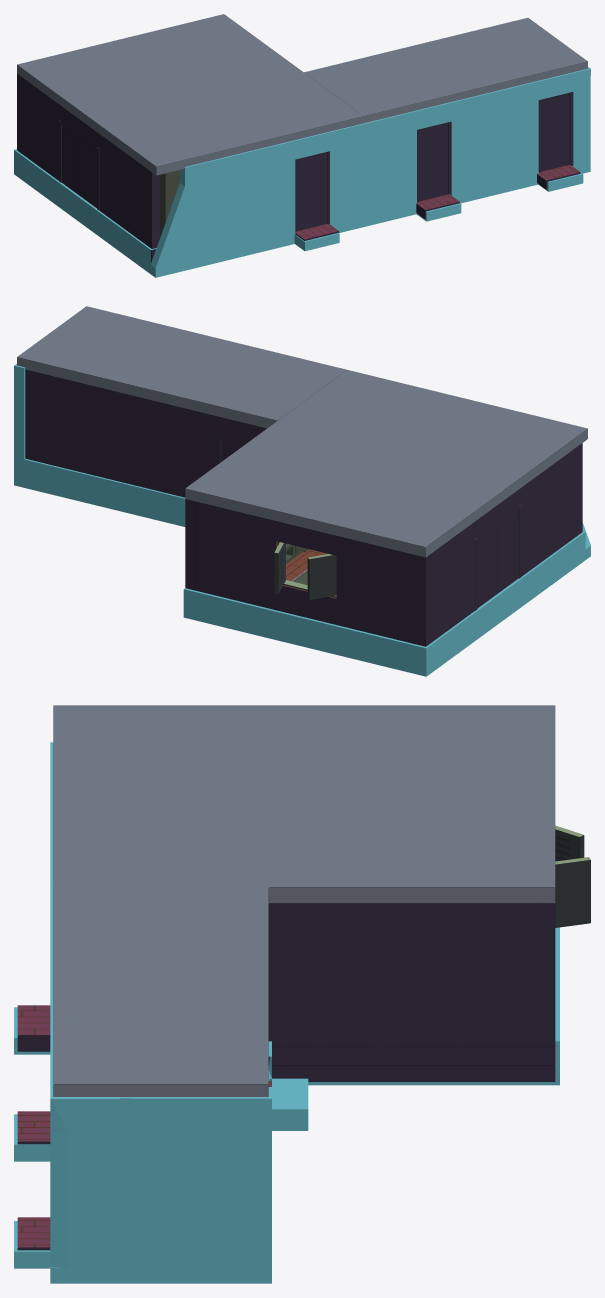
File: broken_room_living.fbx
3 views of the same model, one above another, from view 1: azimuth 30°, elevation 25°; view 2: azimuth 150°, elevation 25°; view 3: azimuth 270°, elevation 25° (orthographic). The views are drawn at different scales.
Visible parts, largest first — view 1: ceiling, map border, pov_wall front full, door, door_1, door_2, floor, door_3, door_4, frames, cuboid_12, wall behind (+1 smaller); view 2: ceiling, pov_wall front full, map border, door_4, door_3, cuboid_48, pov frames, cuboid_49, floor; view 3: ceiling, map border, pov_wall front full, floor, iso_wall front open, cuboid_49, cuboid_48.
Boxes of the visible parts, left/top/right/bottom form: ceiling: left=17, top=14, right=587, bottom=175; map border: left=14, top=67, right=590, bottom=277; pov_wall front full: left=17, top=74, right=160, bottom=261; door: left=296, top=153, right=327, bottom=230; door_1: left=417, top=123, right=447, bottom=201; door_2: left=538, top=94, right=568, bottom=171; floor: left=151, top=164, right=580, bottom=262; door_3: left=61, top=125, right=79, bottom=195; door_4: left=79, top=138, right=96, bottom=207; frames: left=295, top=92, right=570, bottom=231; cuboid_12: left=160, top=170, right=179, bottom=235; wall behind: left=295, top=92, right=573, bottom=212; ceiling: left=17, top=306, right=587, bottom=557; pov_wall front full: left=25, top=370, right=582, bottom=646; map border: left=14, top=364, right=590, bottom=676; door_4: left=497, top=512, right=518, bottom=593; door_3: left=477, top=527, right=497, bottom=607; cuboid_48: left=307, top=554, right=336, bottom=599; pov frames: left=217, top=434, right=521, bottom=610; cuboid_49: left=274, top=542, right=285, bottom=593; floor: left=286, top=549, right=327, bottom=580; ceiling: left=53, top=705, right=555, bottom=1098; map border: left=14, top=742, right=559, bottom=1283; pov_wall front full: left=268, top=903, right=555, bottom=1065; floor: left=17, top=1005, right=555, bottom=1250; iso_wall front open: left=268, top=1046, right=555, bottom=1065; cuboid_49: left=555, top=857, right=590, bottom=927; cuboid_48: left=555, top=825, right=584, bottom=861.
Size of the model in its own units: 3153 by 762 by 2011.
26 materials, 26 textured.
